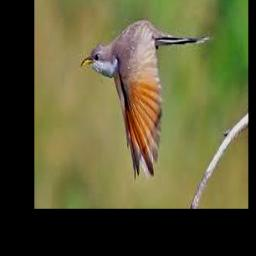Cuckoo: (80, 19, 213, 181)
